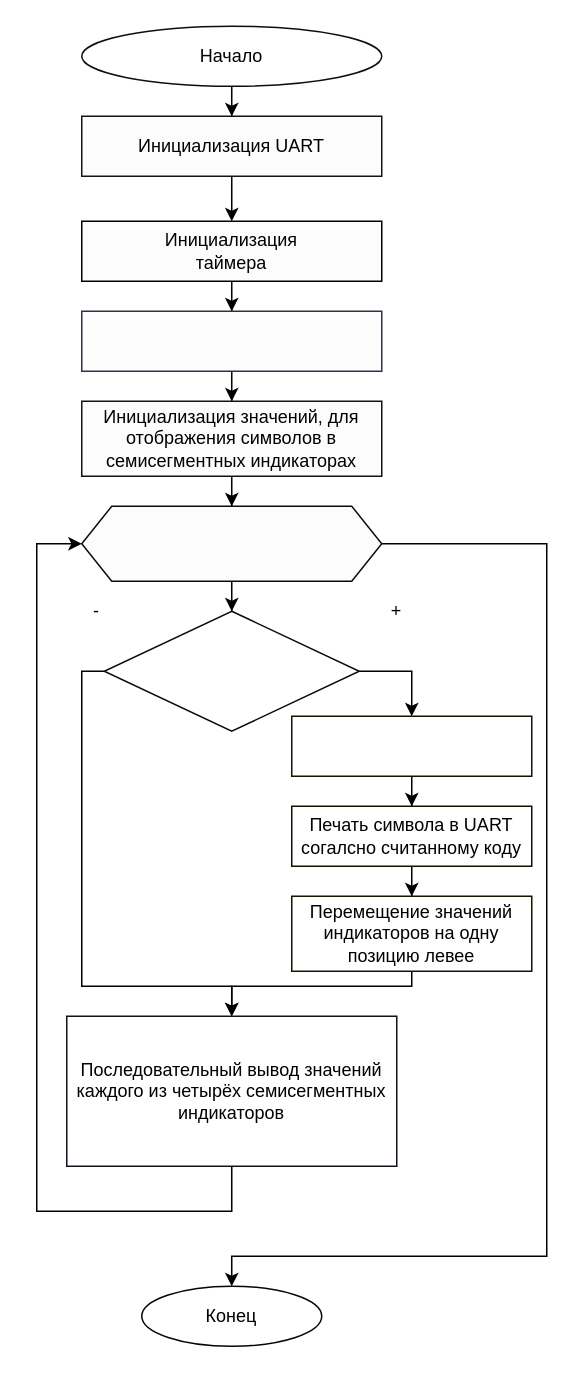
Image size: 585x1373. Some labels were removed from this diagram. Here are the shapes that lost their labels. From the top down, the centre of each, then its label:
[231,340]: Инициализация прерывания INT1
[231,543]: Выполнение до получения сигнала завершения программы
[231,670]: Срабатывание прерывыния INT1
[411,745]: scan символа клавиатуры
